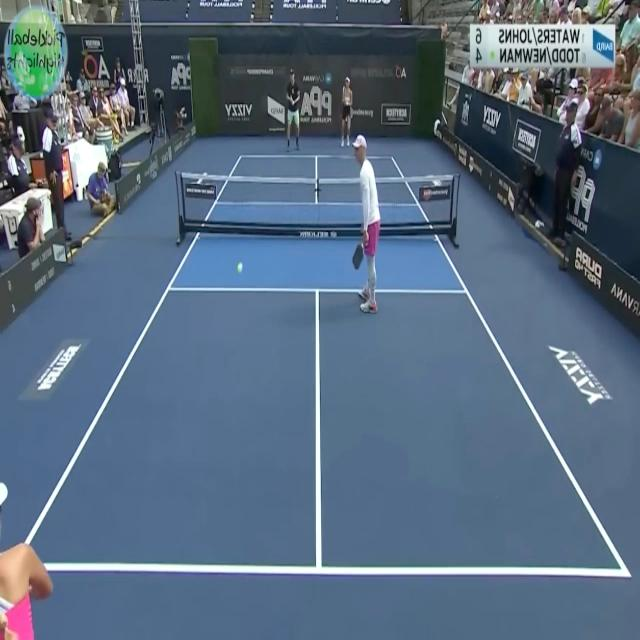Pickleball: (236, 260, 244, 276)
